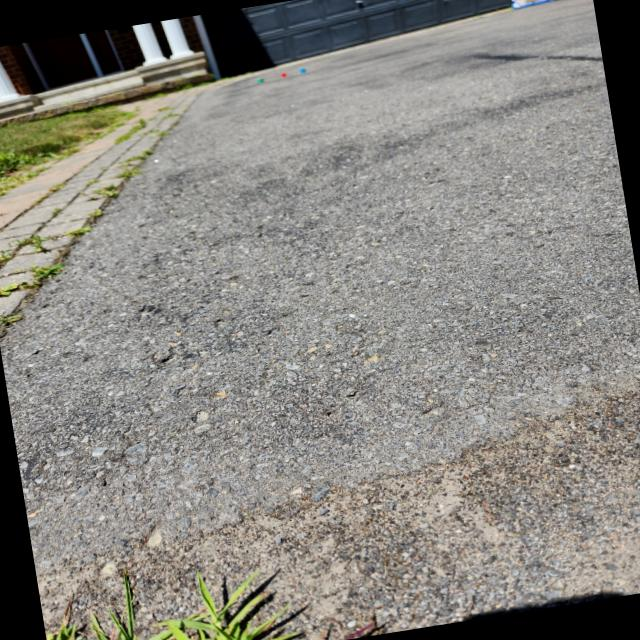bluecube: (300, 68, 307, 73)
green cube: (258, 78, 264, 84)
red cube: (280, 72, 286, 77)
